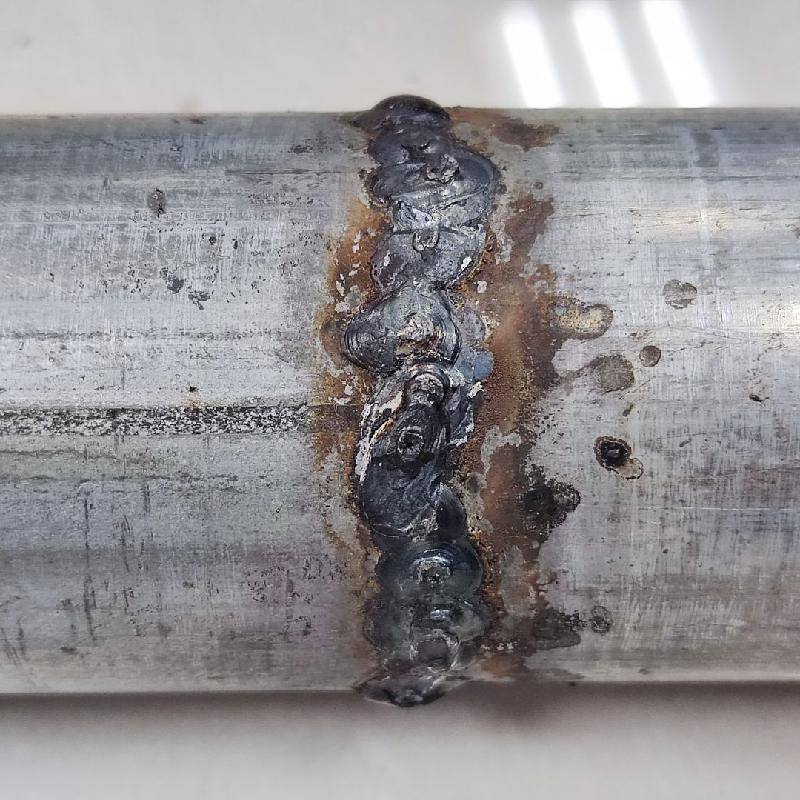Weld: (343, 91, 457, 135)
wrong_size: (360, 133, 486, 700)
